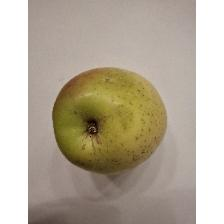Apfel: (49, 62, 171, 177)
